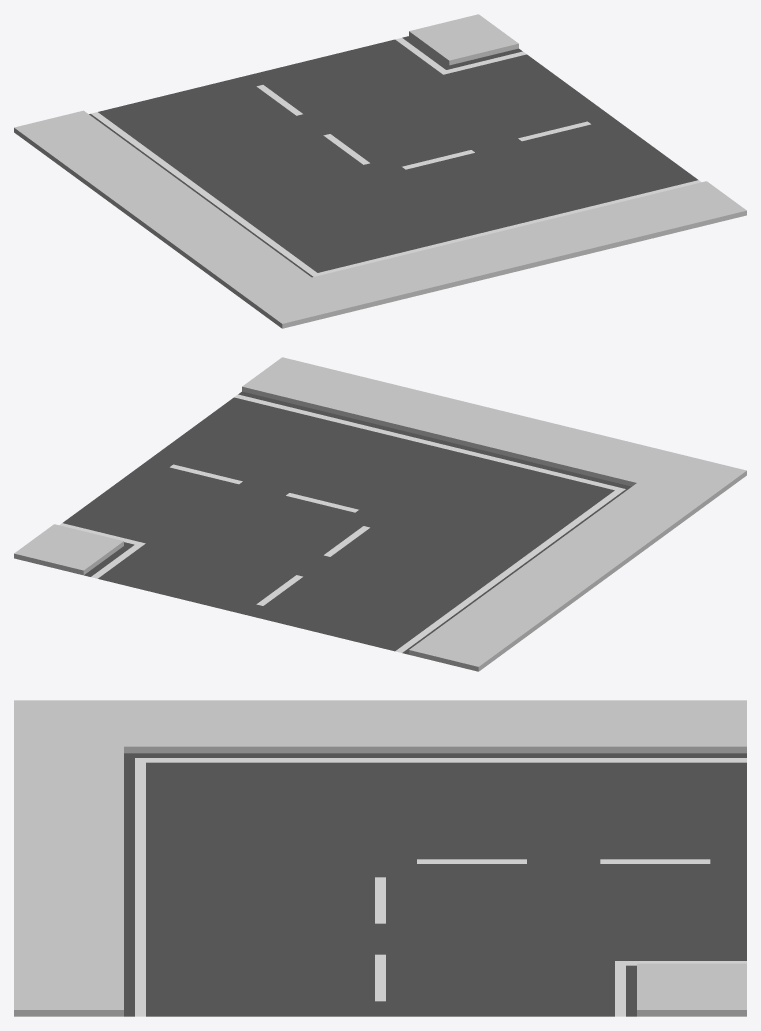
Rendered from SPW_Urban_Road 2way_Corner_02.gltf.
The picture shows the model from 3 angles, top to bottom: view 1: azimuth 30°, elevation 25°; view 2: azimuth 150°, elevation 25°; view 3: azimuth 270°, elevation 25°; orthographic projection. The views are drawn at different scales.
Parts seen in each view (by area): view 1: SPW_Urban_Road_2way_Corner_02; view 2: SPW_Urban_Road_2way_Corner_02; view 3: SPW_Urban_Road_2way_Corner_02.
Boxes of the visible parts, <box> form: SPW_Urban_Road_2way_Corner_02: <box>14,14,746,328</box>; SPW_Urban_Road_2way_Corner_02: <box>14,357,746,671</box>; SPW_Urban_Road_2way_Corner_02: <box>14,700,746,1016</box>.
Bounding box in the file's own units: 787 × 7.87 × 787.
Materials: 1 (1 with a texture image).
